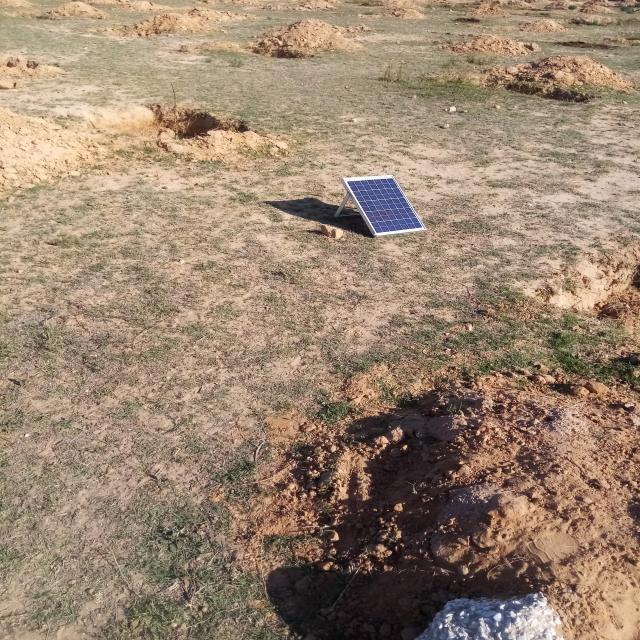no faulty: (343, 175, 427, 236)
